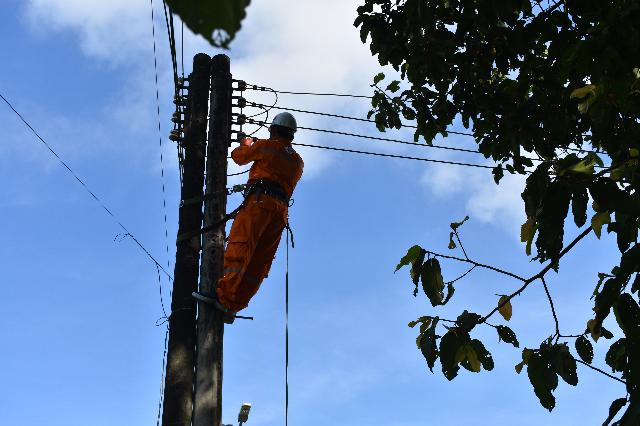gloves: (232, 131, 256, 153)
harness: (248, 178, 301, 212)
helmet: (271, 110, 306, 134)
shoes: (204, 295, 238, 321), (186, 285, 228, 305)
